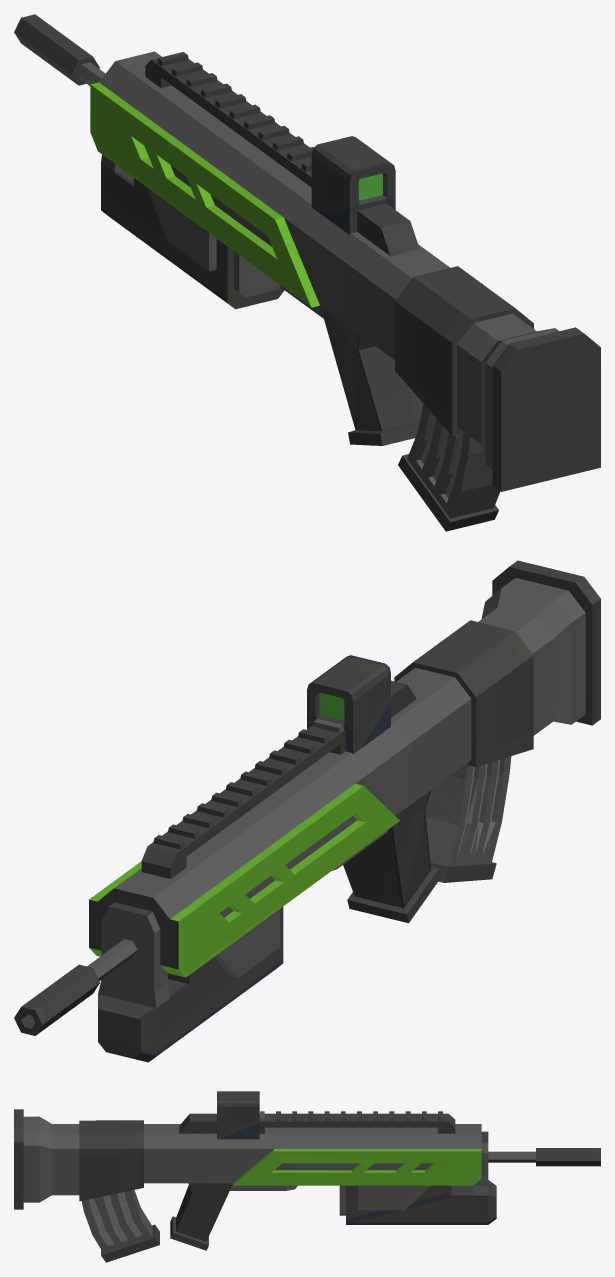
Rendered from burst_rifle_00.glb.
3 renders of one model, top to bottom at view 1: azimuth 30°, elevation 25°; view 2: azimuth 150°, elevation 25°; view 3: azimuth 270°, elevation 25°, orthographic. The views are drawn at different scales.
Parts seen in each view (by area): view 1: burst_rifle_00_weapon, burst_rifle_00_mag, burst_rifle_00_scope; view 2: burst_rifle_00_weapon, burst_rifle_00_mag, burst_rifle_00_scope; view 3: burst_rifle_00_weapon, burst_rifle_00_mag, burst_rifle_00_scope.
Boxes of the visible parts, <box> form: burst_rifle_00_weapon: <box>14,14,600,491</box>; burst_rifle_00_mag: <box>398,404,500,531</box>; burst_rifle_00_scope: <box>311,136,395,234</box>; burst_rifle_00_weapon: <box>14,560,600,1062</box>; burst_rifle_00_mag: <box>425,756,511,882</box>; burst_rifle_00_scope: <box>307,655,390,754</box>; burst_rifle_00_weapon: <box>14,1109,600,1250</box>; burst_rifle_00_mag: <box>81,1190,159,1262</box>; burst_rifle_00_scope: <box>217,1091,259,1139</box>.
Size of the model in its own units: 0.3343 by 0.9146 by 3.03.
1 material, 1 textured.
